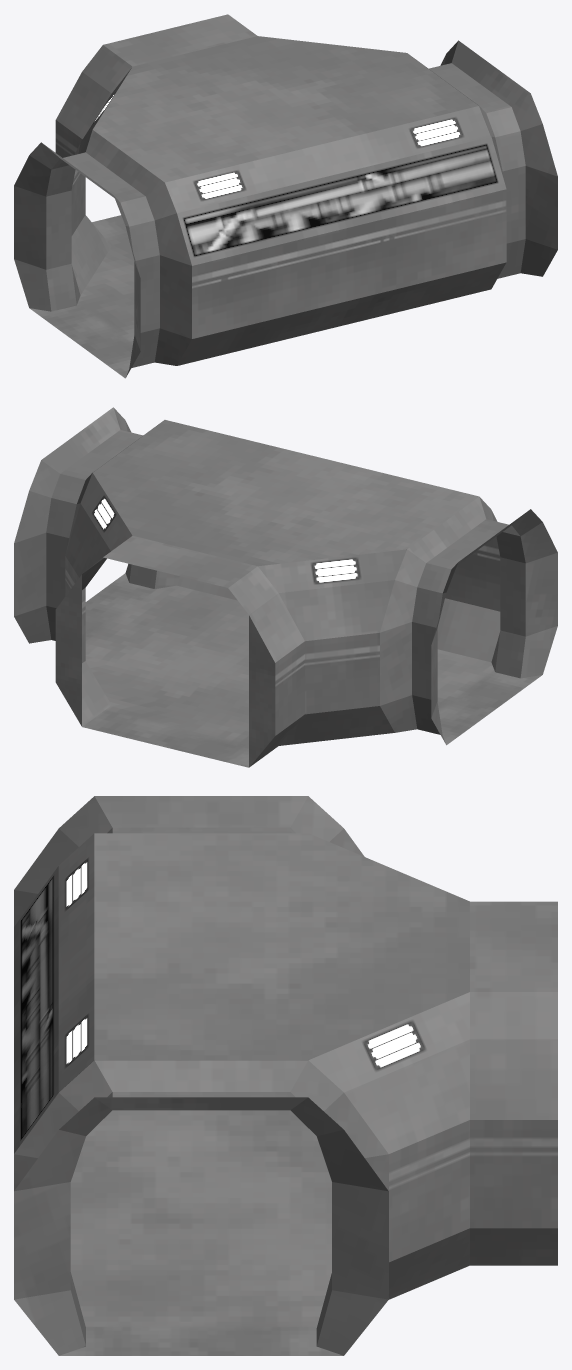
File: hallway_oct_3x_to_square.fbx
3 views of the same model, one above another, from view 1: azimuth 30°, elevation 25°; view 2: azimuth 150°, elevation 25°; view 3: azimuth 270°, elevation 25° (orthographic). The views are drawn at different scales.
Parts seen in each view (by area): view 1: hallway_oct.016; view 2: hallway_oct.016; view 3: hallway_oct.016.
Part boxes in pixels (x1,y1,x2,y2): hallway_oct.016: (14,14,557,378); hallway_oct.016: (14,407,557,767); hallway_oct.016: (14,796,557,1355).
Bounding box in the file's own units: 1000 × 400 × 763.
1 material, 1 textured.
